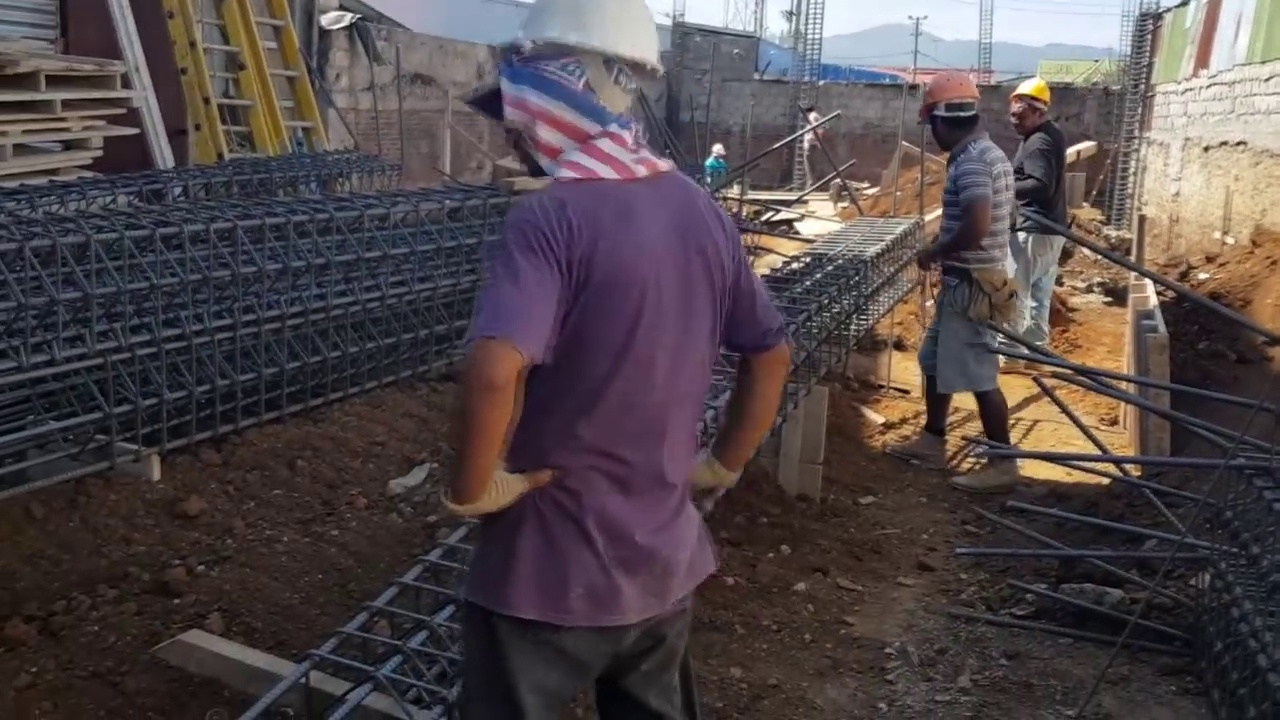helmet: (456, 2, 664, 99), (918, 64, 984, 126), (1009, 76, 1052, 112), (712, 144, 727, 156)
helmet-off: (799, 101, 816, 119)
helmet-on: (456, 0, 665, 191), (916, 65, 985, 159), (1009, 76, 1052, 131), (709, 143, 727, 162)
person: (410, 0, 779, 703), (913, 65, 1027, 482), (996, 76, 1075, 372), (798, 102, 830, 194), (703, 143, 728, 192)
